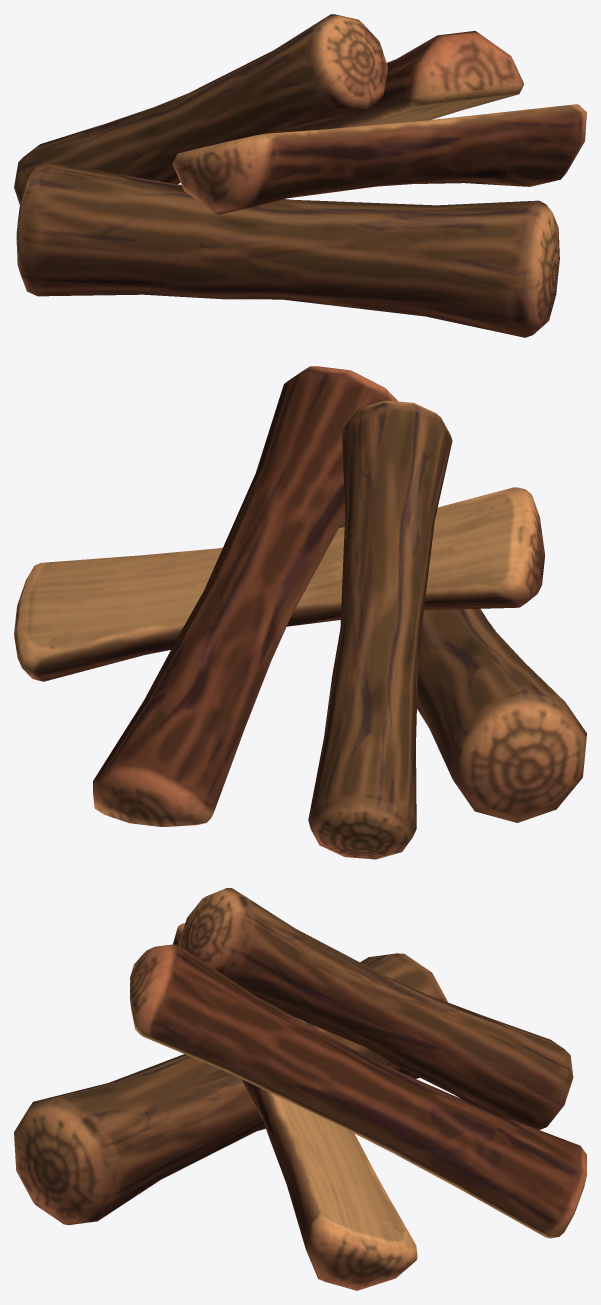
The model's file is SM_Logs_Pile.obj.
3 views of the same model, one above another, from view 1: azimuth 30°, elevation 25°; view 2: azimuth 150°, elevation 25°; view 3: azimuth 270°, elevation 25° (orthographic). The views are drawn at different scales.
Visible parts, largest first — view 1: SM_Logs_Pile_MI_CampFire_Assets; view 2: SM_Logs_Pile_MI_CampFire_Assets; view 3: SM_Logs_Pile_MI_CampFire_Assets.
Boxes of the visible parts, x1,y1,x2,y2 form: SM_Logs_Pile_MI_CampFire_Assets: (14, 14, 586, 337); SM_Logs_Pile_MI_CampFire_Assets: (14, 366, 586, 859); SM_Logs_Pile_MI_CampFire_Assets: (14, 888, 586, 1290).
Bounding box in the file's own units: 0.6603 × 0.3428 × 0.6102.
1 material, 1 textured.
